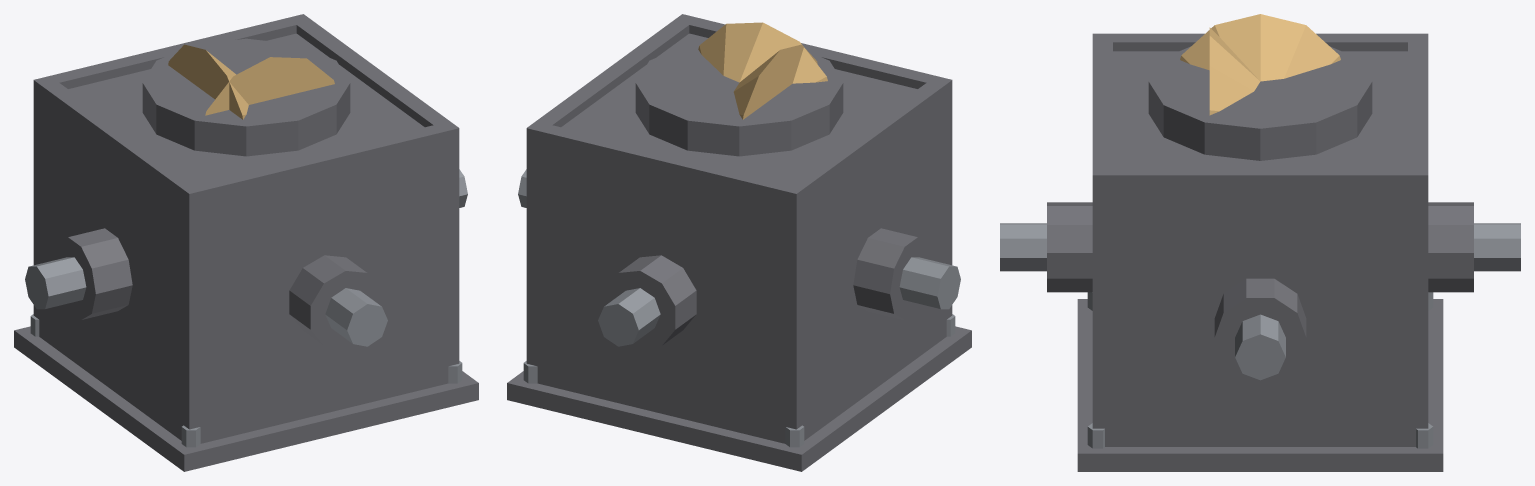
The model's file is bevel_gearbox.glb.
3 views of the same model, side by side, from view 1: azimuth 30°, elevation 25°; view 2: azimuth 150°, elevation 25°; view 3: azimuth 270°, elevation 25° (orthographic). The views are drawn at different scales.
Visible parts, largest first — view 1: Cube.002, Cube.001, Cylinder.008, Cube.005, Cube, Cube.003, Cube.004, Cylinder.002, Cylinder.006, Cone.001, Cylinder.007, Cylinder.003 (+1 smaller); view 2: Cube.004, Cube.001, Cylinder.008, Cube.005, Cube, Cube.003, Cube.002, Cylinder.002, Cylinder.004, Cone.001, Cone, Cylinder.005 (+1 smaller); view 3: Cube.003, Cylinder.008, Cube.005, Cube, Cube.002, Cube.004, Cone, Cylinder, Cylinder.004, Cylinder.006, Cube.001, Cylinder.001 (+3 smaller).
Part boxes in pixels (x1=…): Cube.002: x1=180, y1=121, x2=459, y2=442; Cube.001: x1=34, y1=76, x2=205, y2=443; Cylinder.008: x1=142, y1=38, x2=350, y2=156; Cube.005: x1=14, y1=326, x2=478, y2=471; Cube: x1=68, y1=33, x2=424, y2=182; Cube.003: x1=288, y1=14, x2=459, y2=384; Cube.004: x1=33, y1=14, x2=307, y2=338; Cylinder.002: x1=54, y1=228, x2=132, y2=319; Cylinder.006: x1=289, y1=255, x2=380, y2=347; Cone.001: x1=205, y1=57, x2=334, y2=115; Cylinder.007: x1=325, y1=288, x2=387, y2=346; Cylinder.003: x1=25, y1=257, x2=86, y2=309; Cube.004: x1=527, y1=125, x2=805, y2=442; Cube.001: x1=780, y1=76, x2=952, y2=443; Cylinder.008: x1=635, y1=43, x2=843, y2=156; Cube.005: x1=507, y1=326, x2=971, y2=471; Cube: x1=561, y1=33, x2=917, y2=182; Cube.003: x1=526, y1=14, x2=697, y2=384; Cube.002: x1=673, y1=14, x2=952, y2=338; Cylinder.002: x1=853, y1=228, x2=931, y2=319; Cylinder.004: x1=605, y1=255, x2=696, y2=347; Cone.001: x1=698, y1=22, x2=827, y2=83; Cone: x1=733, y1=44, x2=817, y2=119; Cylinder.005: x1=598, y1=288, x2=660, y2=346; Cube.003: x1=1092, y1=166, x2=1428, y2=446; Cylinder.008: x1=1148, y1=46, x2=1372, y2=160; Cube.005: x1=1077, y1=299, x2=1443, y2=471; Cube: x1=1113, y1=51, x2=1407, y2=166; Cube.002: x1=1092, y1=33, x2=1112, y2=446; Cube.004: x1=1408, y1=33, x2=1428, y2=446; Cone: x1=1180, y1=14, x2=1340, y2=81; Cylinder: x1=1214, y1=278, x2=1306, y2=376; Cylinder.004: x1=1428, y1=202, x2=1473, y2=292; Cylinder.006: x1=1047, y1=202, x2=1092, y2=292; Cube.001: x1=1092, y1=33, x2=1428, y2=51; Cylinder.001: x1=1235, y1=314, x2=1285, y2=380.
Size of the model in its own units: 1.03 by 0.78 by 1.03.
